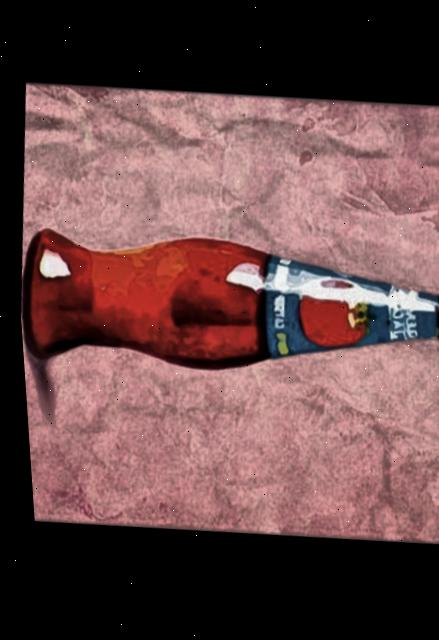La Botella: (4, 71, 439, 557)
